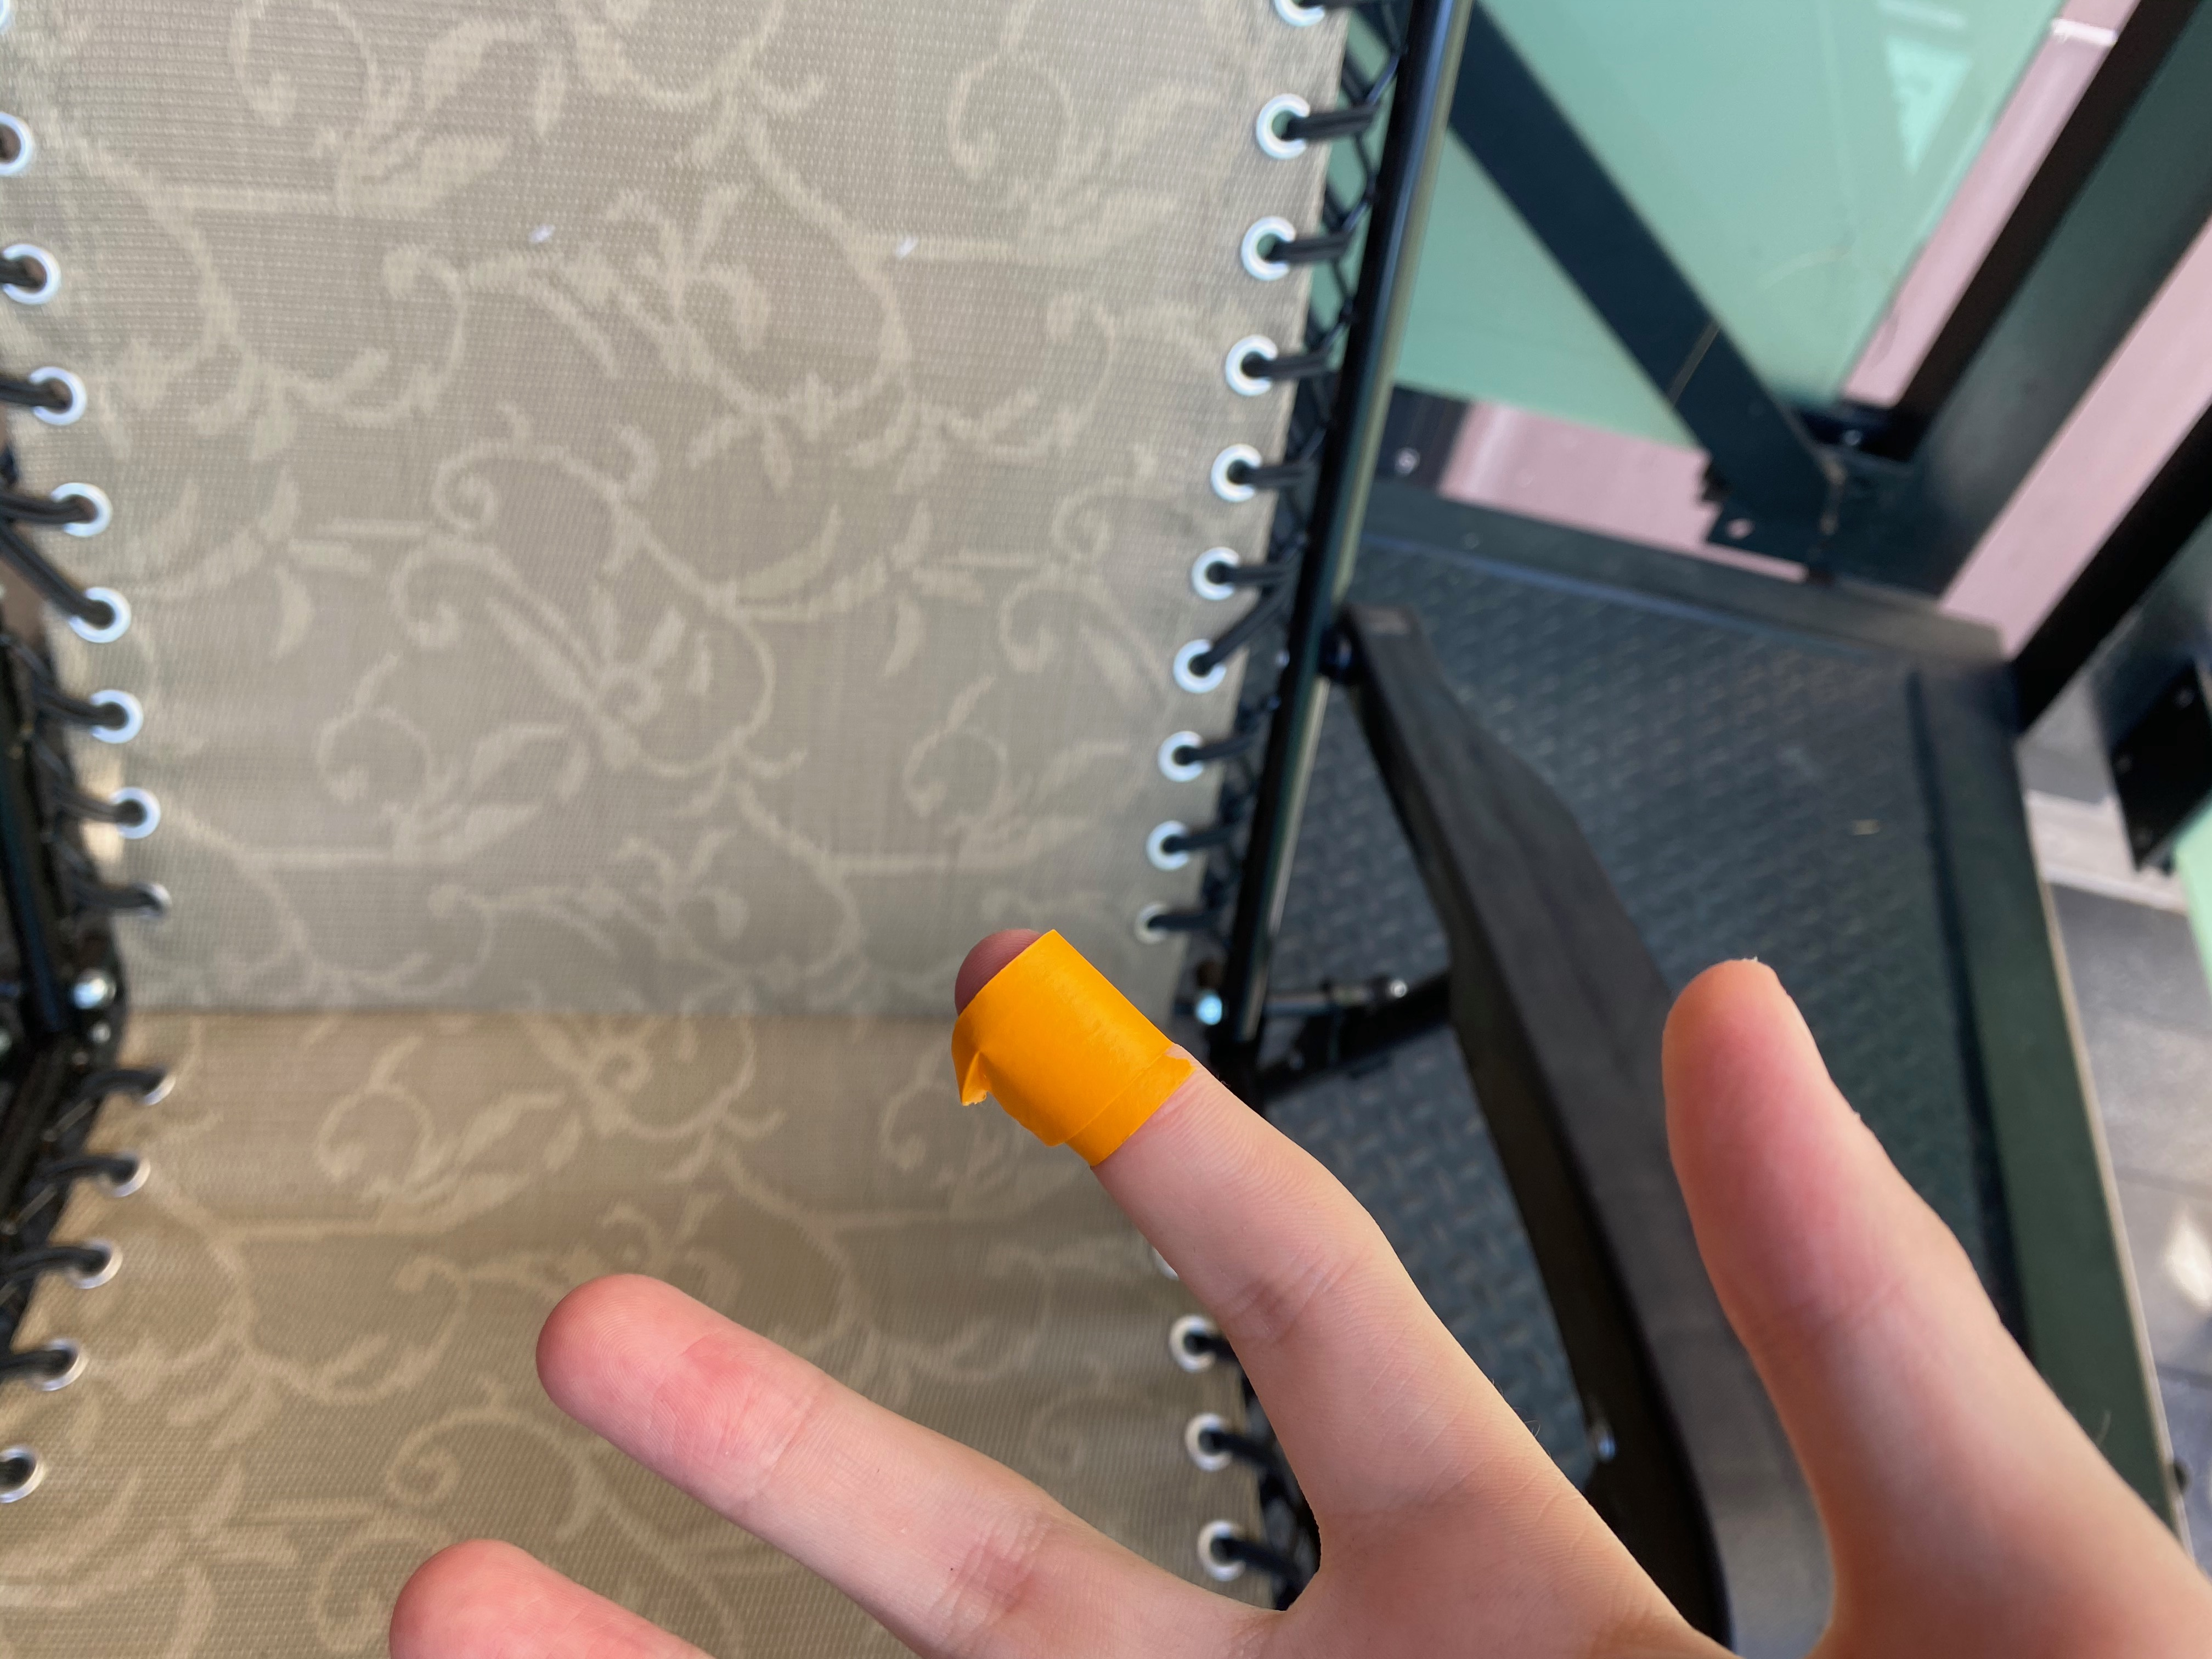fingertip: (928, 896, 1207, 1171)
